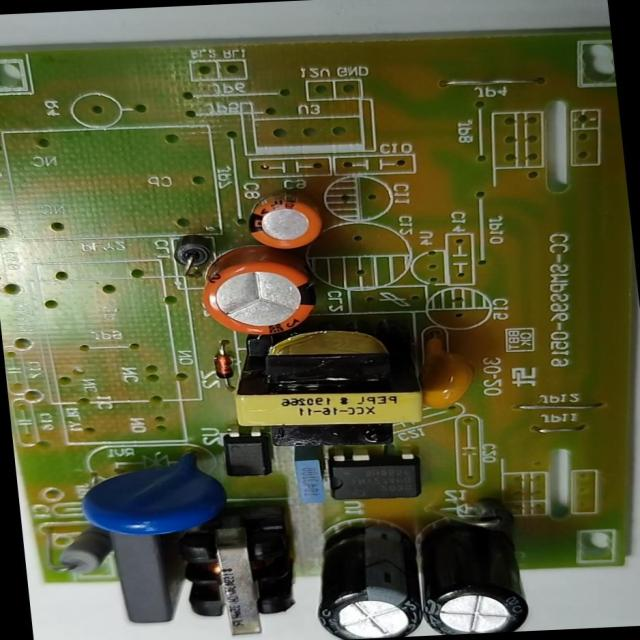Cap1: (184, 239, 328, 342)
Cap2: (236, 182, 337, 256)
Cap3: (304, 512, 433, 640)
Cap4: (391, 492, 542, 636)
MOSFET: (315, 438, 431, 503)
Mov: (68, 433, 246, 542)
Resistor: (44, 520, 117, 578)
Transformer: (219, 304, 436, 452), (172, 487, 294, 640)
